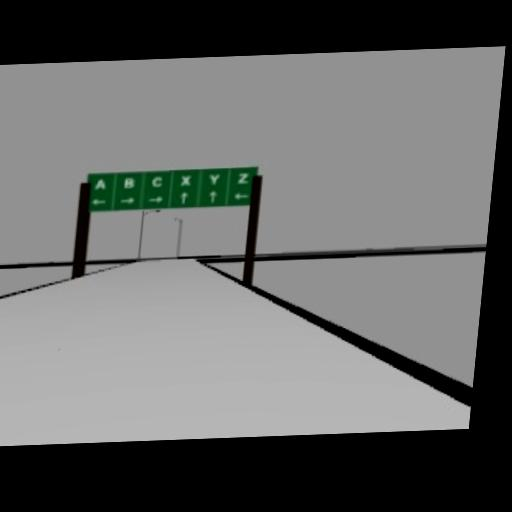A: (93, 176, 107, 189)
B: (121, 175, 135, 188)
C: (149, 174, 163, 187)
Left: (233, 191, 248, 198), (91, 196, 106, 203)
Right: (119, 195, 134, 202), (147, 194, 162, 201)
Straight: (208, 189, 217, 202), (178, 190, 187, 203)
X: (180, 173, 191, 184)
Y: (208, 170, 221, 183)
Z: (235, 170, 249, 183)
